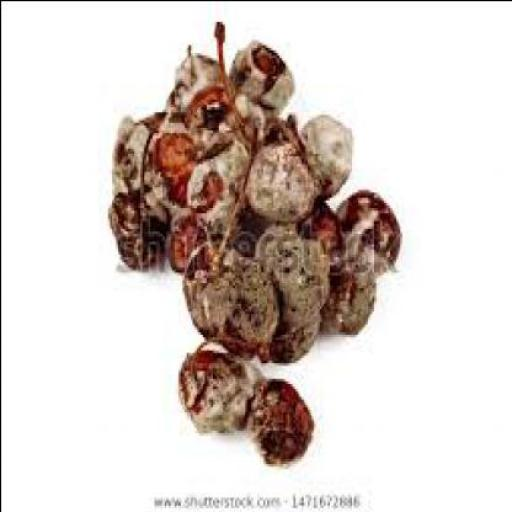biodegradable: (252, 222, 329, 318), (177, 346, 266, 426), (242, 136, 314, 222), (246, 375, 314, 463), (184, 134, 246, 228), (218, 251, 274, 355), (335, 186, 399, 272), (105, 180, 165, 266), (180, 238, 231, 339), (226, 37, 295, 106), (111, 111, 170, 189), (296, 111, 349, 194), (321, 259, 372, 331), (166, 49, 220, 116), (258, 305, 318, 357), (149, 127, 192, 199), (224, 88, 270, 142), (182, 80, 232, 129), (296, 194, 337, 248), (166, 212, 204, 264)
